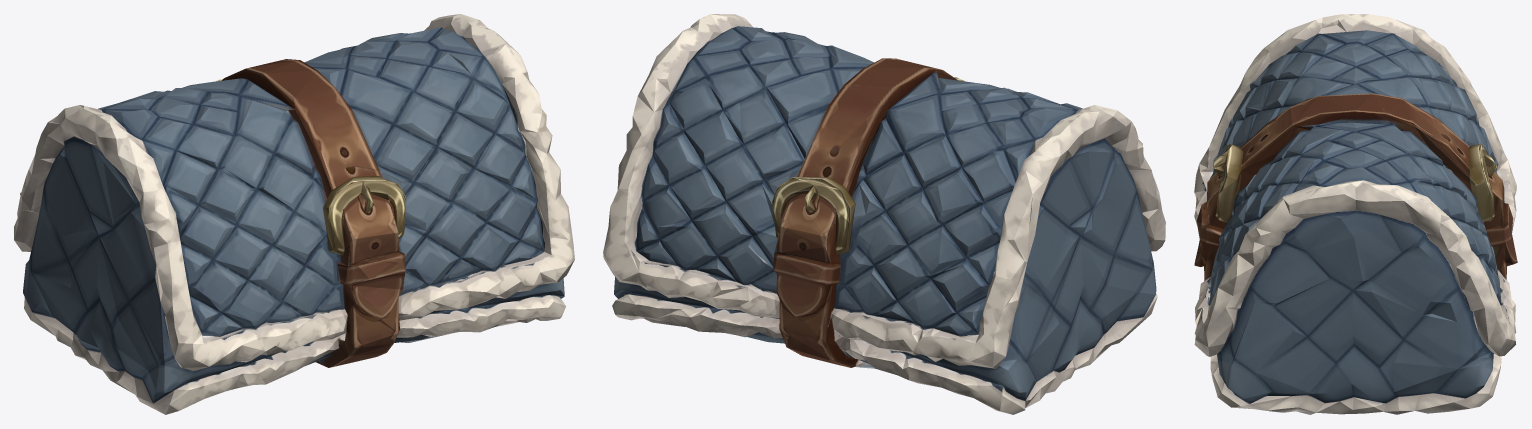
File: insulated_leggings.glb
3 renders of one model, left to right at view 1: azimuth 30°, elevation 25°; view 2: azimuth 150°, elevation 25°; view 3: azimuth 270°, elevation 25°, orthographic. The views are drawn at different scales.
Parts seen in each view (by area): view 1: Mesh_0; view 2: Mesh_0; view 3: Mesh_0.
Part boxes in pixels (left/top/right/bottom): Mesh_0: left=14, top=14, right=574, bottom=414; Mesh_0: left=603, top=14, right=1165, bottom=414; Mesh_0: left=1194, top=14, right=1517, bottom=414.
Size of the model in its own units: 0.5 by 0.3069 by 0.3787.
1 material, 1 textured.
